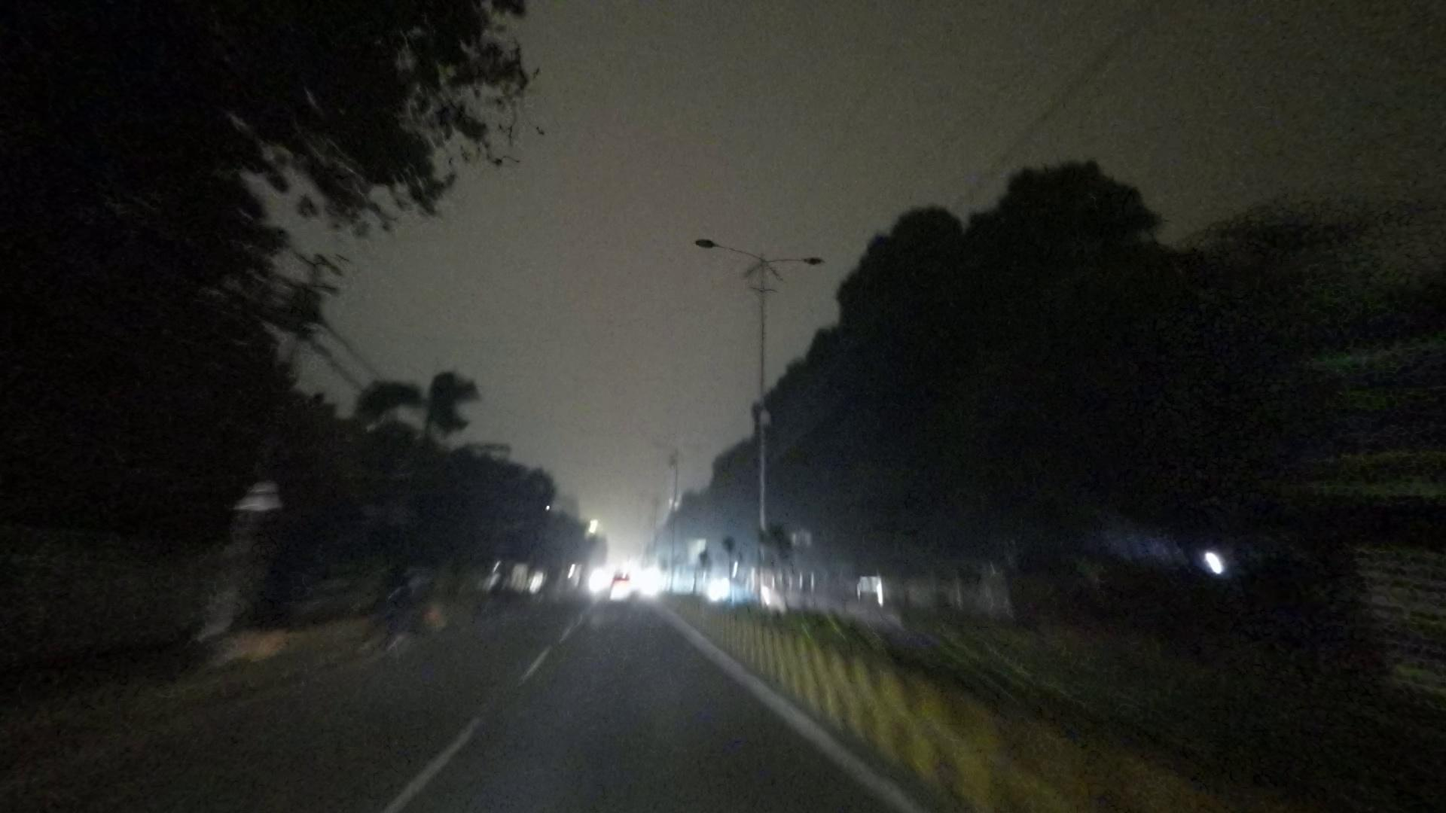streetlight: (693, 233, 759, 260), (772, 250, 826, 268)
